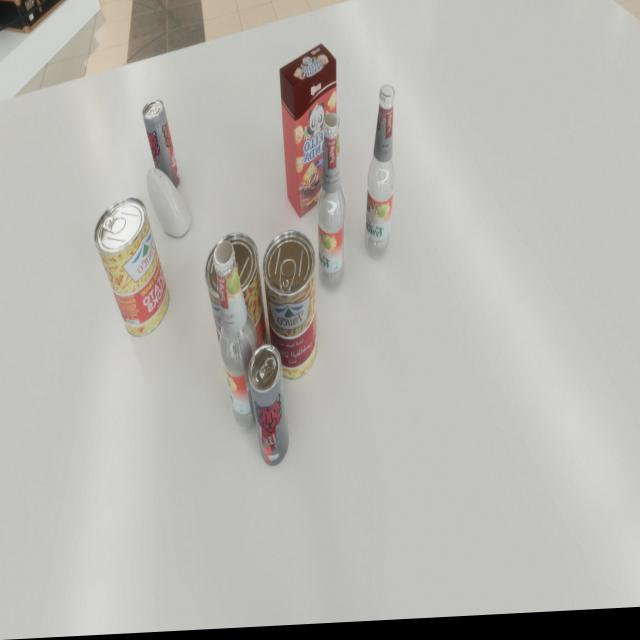Bottle: (213, 242, 265, 435), (364, 88, 395, 264), (316, 116, 346, 295)
HelloPanda: (280, 47, 336, 222)
Potato_sticks: (94, 197, 170, 340), (205, 234, 268, 386), (262, 232, 318, 384)
Rita_zero_sugar: (248, 346, 289, 470), (142, 100, 180, 197)
Salt: (146, 168, 190, 240)
